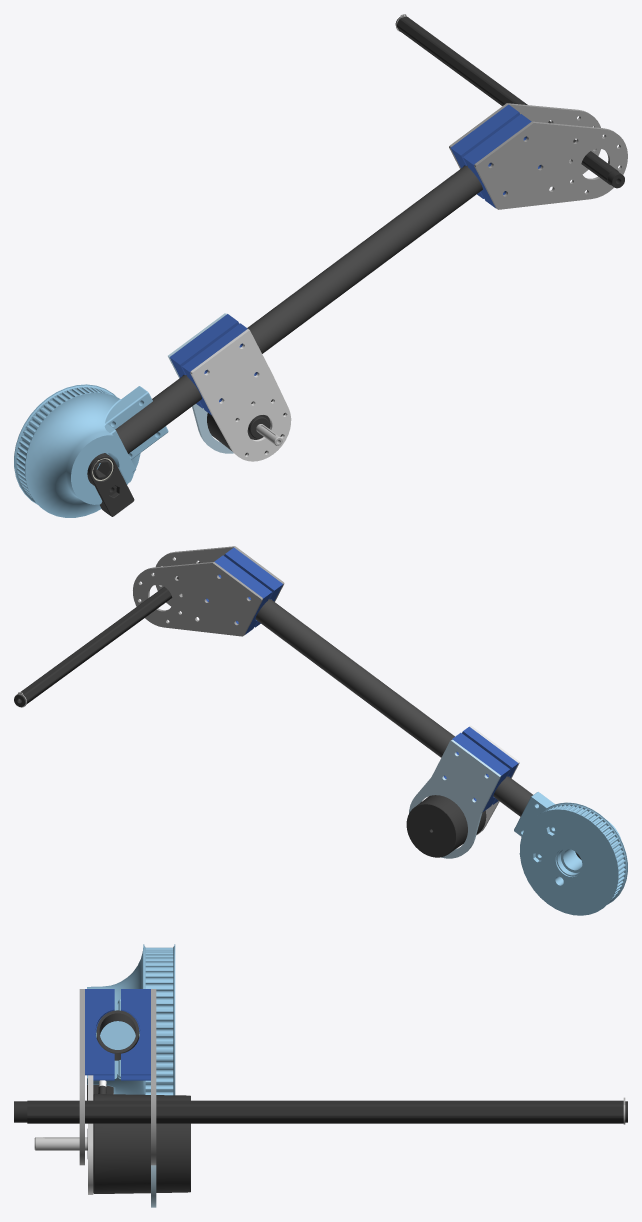
The picture shows the model from 3 angles, top to bottom: view 1: azimuth 30°, elevation 25°; view 2: azimuth 150°, elevation 25°; view 3: azimuth 270°, elevation 25°; orthographic projection. The views are drawn at different scales.
Parts seen in each view (by area): view 1: 70T 5M Pulley, Part 16, Roller Clamp plate (×2), motor mount clamp plate, 3DP Clamp Roller (×3), Shaft, WCP ThroughBore Powered by CANcoder (1/2" Hex), NEO Brushless Motor V1.1, Thin clamp section, Motor Mount clamp (Backer); view 2: 70T 5M Pulley, Roller Clamp plate (×2), Part 16, Motor Mount clamp (Backer), NEO Brushless Motor V1.1, 3DP Clamp Roller (×3), Shaft, Thin clamp section; view 3: Shaft, NEO Brushless Motor V1.1, 70T 5M Pulley, 3DP Clamp Roller (×2), Roller Clamp plate (×2), Part 16, motor mount clamp plate.
Part boxes in pixels (<box>): 70T 5M Pulley: <box>14,384,168,517</box>; Part 16: <box>115,165,482,453</box>; Roller Clamp plate (×2): <box>449,103,627,209</box>; motor mount clamp plate: <box>190,329,291,461</box>; 3DP Clamp Roller (×3): <box>169,104,541,408</box>; Shaft: <box>395,14,624,188</box>; WCP ThroughBore Powered by CANcoder (1/2" Hex): <box>87,453,134,516</box>; NEO Brushless Motor V1.1: <box>207,399,285,455</box>; Thin clamp section: <box>182,323,257,415</box>; Motor Mount clamp (Backer): <box>168,313,233,453</box>; 70T 5M Pulley: <box>514,792,627,915</box>; Roller Clamp plate (×2): <box>133,546,284,636</box>; Part 16: <box>255,599,532,816</box>; Motor Mount clamp (Backer): <box>409,739,500,858</box>; NEO Brushless Motor V1.1: <box>406,795,486,857</box>; 3DP Clamp Roller (×3): <box>206,547,509,811</box>; Shaft: <box>14,561,200,707</box>; Thin clamp section: <box>462,726,518,804</box>; Shaft: <box>14,1097,627,1124</box>; NEO Brushless Motor V1.1: <box>34,1080,190,1193</box>; 70T 5M Pulley: <box>87,944,175,1095</box>; 3DP Clamp Roller (×2): <box>85,989,150,1075</box>; Roller Clamp plate (×2): <box>79,989,156,1165</box>; Part 16: <box>96,1010,139,1060</box>; motor mount clamp plate: <box>88,1075,93,1194</box>.
Bounding box in the file's own units: 0.5667 × 0.2853 × 0.3661.
